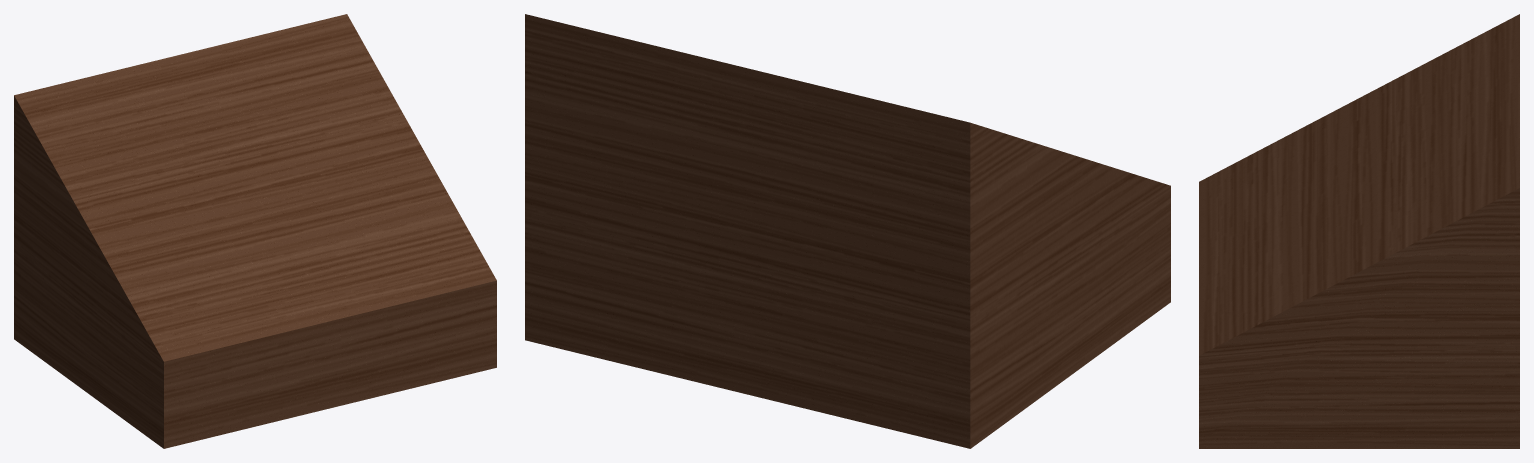
The model's file is wedge.glb.
3 renders of one model, left to right at view 1: azimuth 30°, elevation 25°; view 2: azimuth 150°, elevation 25°; view 3: azimuth 270°, elevation 25°, orthographic. The views are drawn at different scales.
Parts seen in each view (by area): view 1: wedge; view 2: wedge; view 3: wedge.
Part boxes in pixels (x1,y1,x2,y2): wedge: (14,14,496,448); wedge: (525,14,1170,448); wedge: (1199,14,1519,448).
Size of the model in its own units: 0.2 by 0.14 by 0.1559.
1 material, 1 textured.
